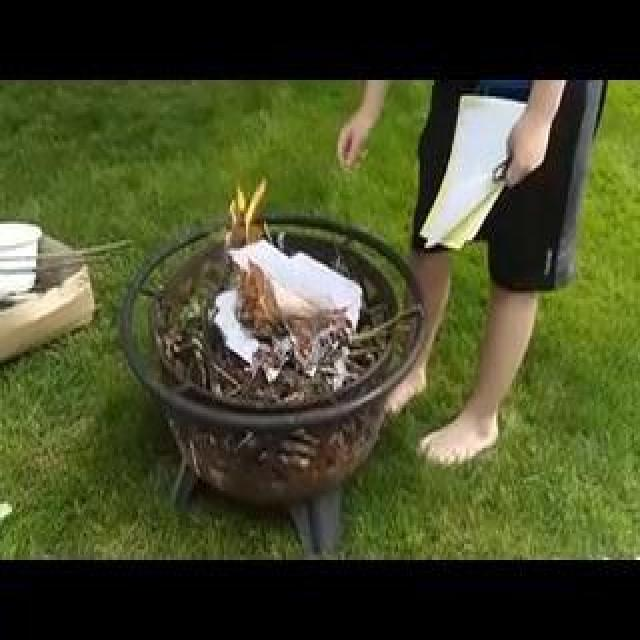Fire: (82, 208, 249, 234)
